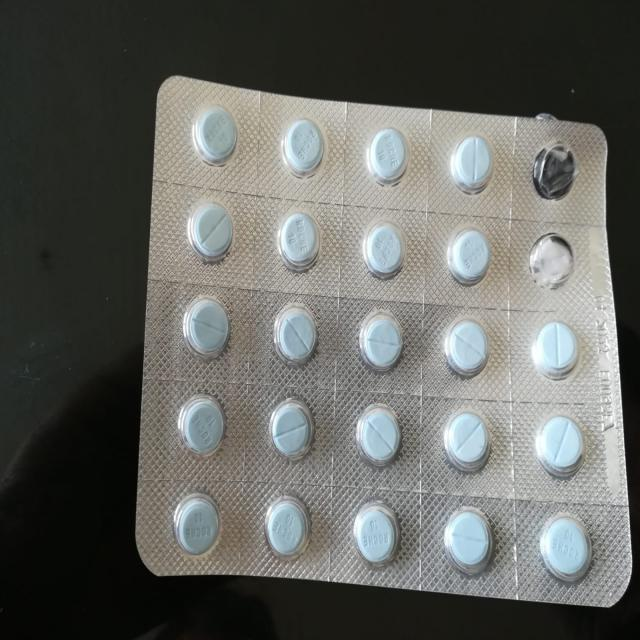Empty: (522, 228, 579, 300), (527, 133, 577, 203)
Pill: (537, 511, 596, 586), (528, 412, 590, 483), (439, 506, 498, 578), (258, 489, 314, 564), (348, 498, 404, 572), (437, 313, 492, 385), (176, 389, 230, 462), (178, 291, 234, 361), (350, 400, 406, 470), (442, 223, 496, 292), (438, 408, 494, 474), (270, 296, 318, 372), (185, 198, 240, 264), (174, 489, 224, 561), (266, 395, 316, 467), (528, 319, 582, 385), (446, 131, 496, 202), (273, 205, 322, 275), (356, 308, 406, 376), (358, 218, 409, 282), (280, 114, 327, 180), (194, 101, 240, 166), (364, 120, 408, 186)
